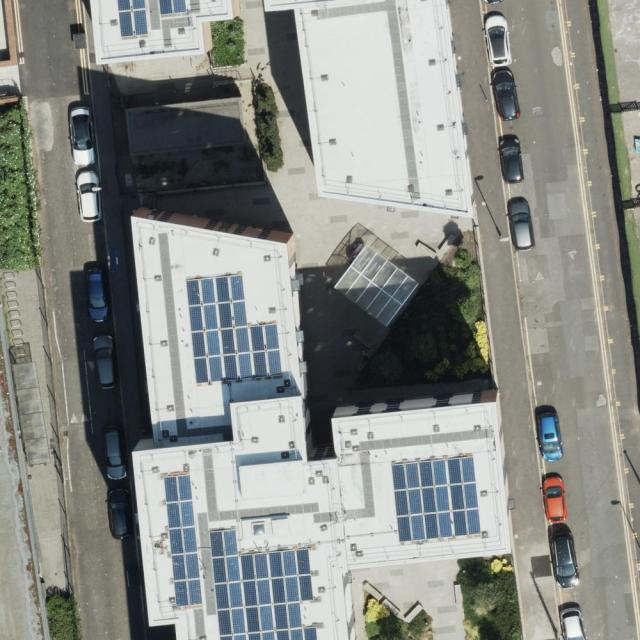roof: (128, 215, 512, 640), (260, 0, 476, 215), (89, 0, 234, 66)
skylight: (251, 522, 266, 540)
solar: (208, 528, 316, 640), (186, 274, 283, 386), (391, 456, 482, 543), (163, 474, 204, 608), (119, 0, 148, 38), (158, 0, 186, 15)
